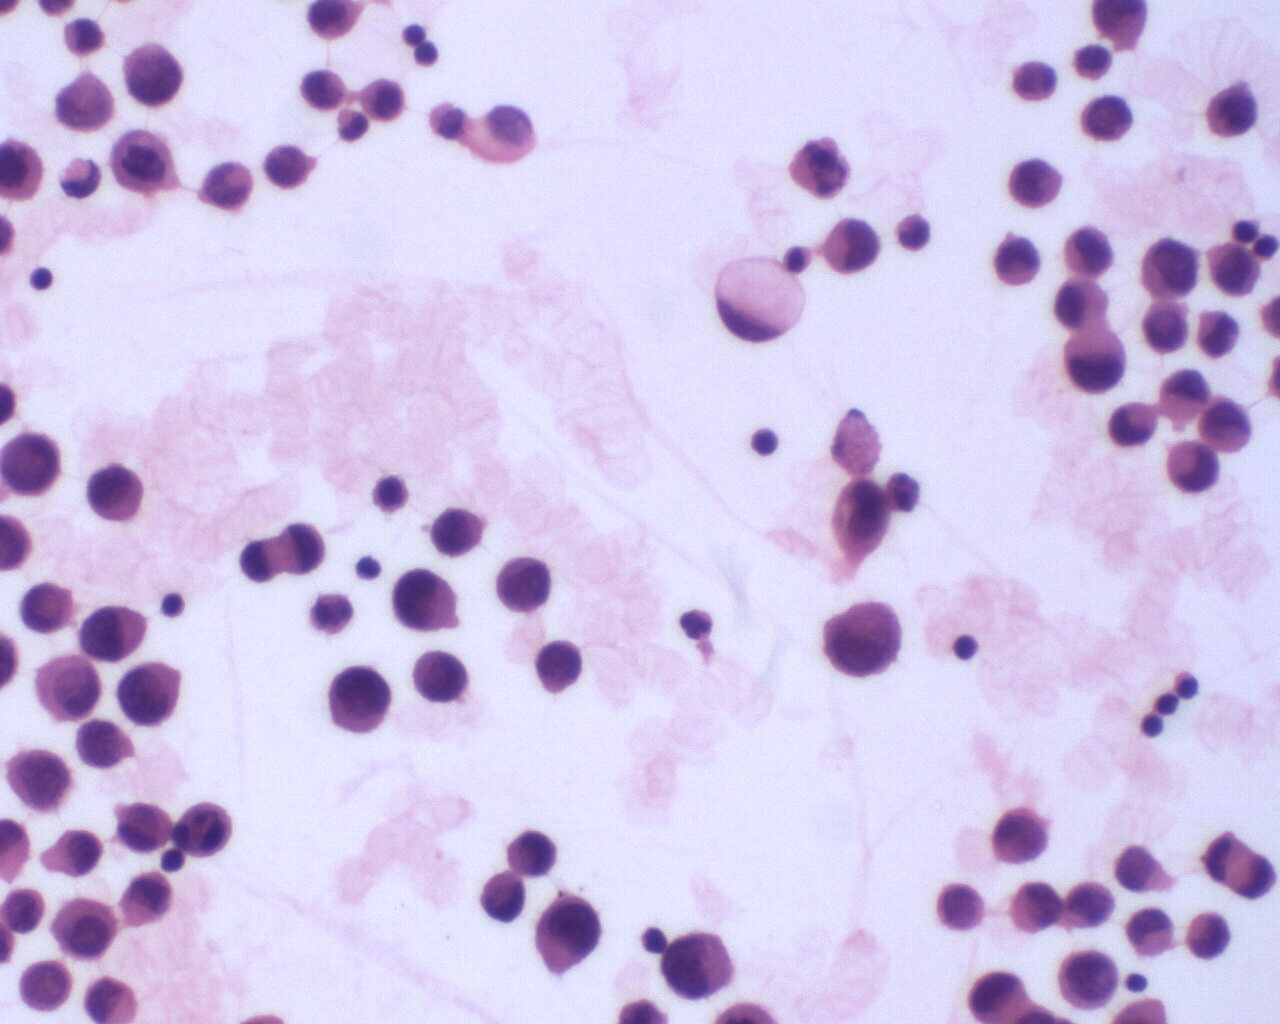ab: (821, 597, 907, 683), (529, 891, 607, 981), (660, 926, 739, 1001), (28, 653, 103, 724), (107, 127, 183, 197), (324, 660, 394, 736), (118, 37, 187, 113), (388, 567, 462, 636), (117, 658, 185, 732), (1057, 942, 1124, 1013), (4, 747, 75, 813), (1137, 233, 1205, 299), (84, 461, 152, 526), (1, 425, 63, 496), (986, 801, 1050, 869), (493, 549, 552, 618), (1201, 79, 1263, 143), (19, 578, 84, 639), (406, 646, 470, 707), (1201, 238, 1266, 298), (17, 955, 78, 1015), (72, 717, 135, 773), (531, 637, 587, 698), (1141, 297, 1194, 360), (428, 504, 486, 562), (1002, 160, 1063, 215), (502, 827, 562, 881), (1078, 91, 1135, 145), (935, 877, 990, 933), (1011, 876, 1064, 934)
histo: (709, 249, 810, 347)
lymph: (748, 423, 789, 463), (953, 628, 981, 662)
neutro: (677, 607, 716, 641)
